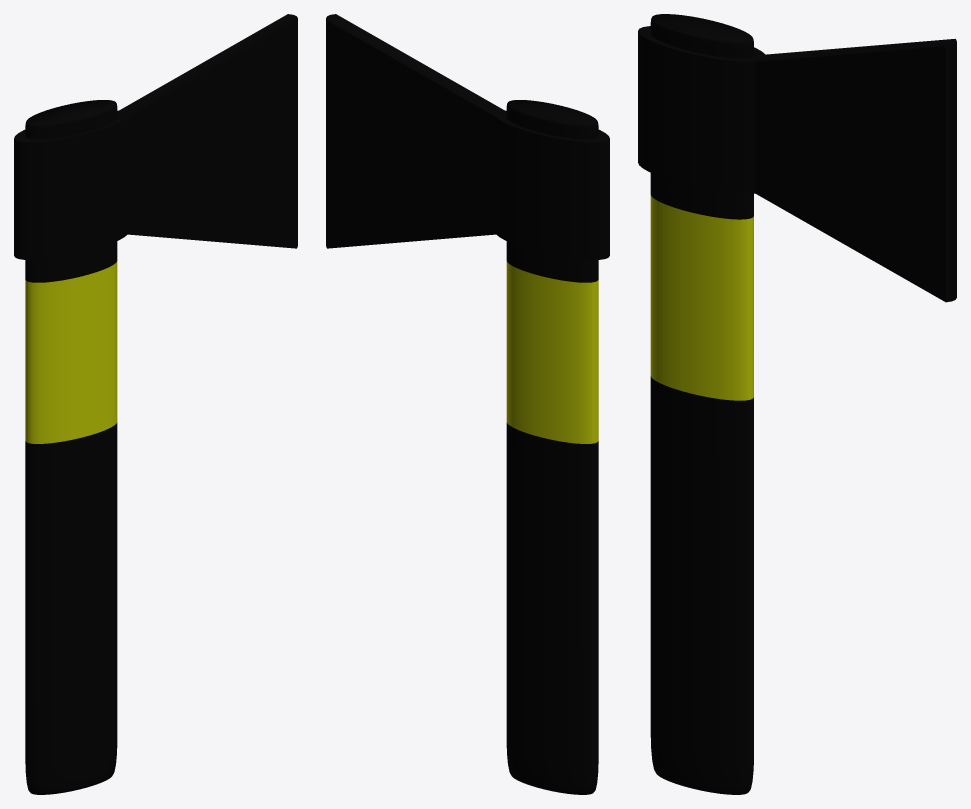
Rendered from axe.obj.
The picture shows the model from 3 angles, left to right: view 1: azimuth 30°, elevation 25°; view 2: azimuth 150°, elevation 25°; view 3: azimuth 330°, elevation 25°; orthographic projection. The views are drawn at different scales.
Visible parts, largest first — view 1: axe; view 2: axe; view 3: axe.
Part boxes in pixels (box(x1,y1,x2,y2)): axe: box(14, 14, 297, 794); axe: box(326, 14, 609, 794); axe: box(638, 14, 956, 794).
Size of the model in its own units: 0.158 by 0.3822 by 0.0225.
